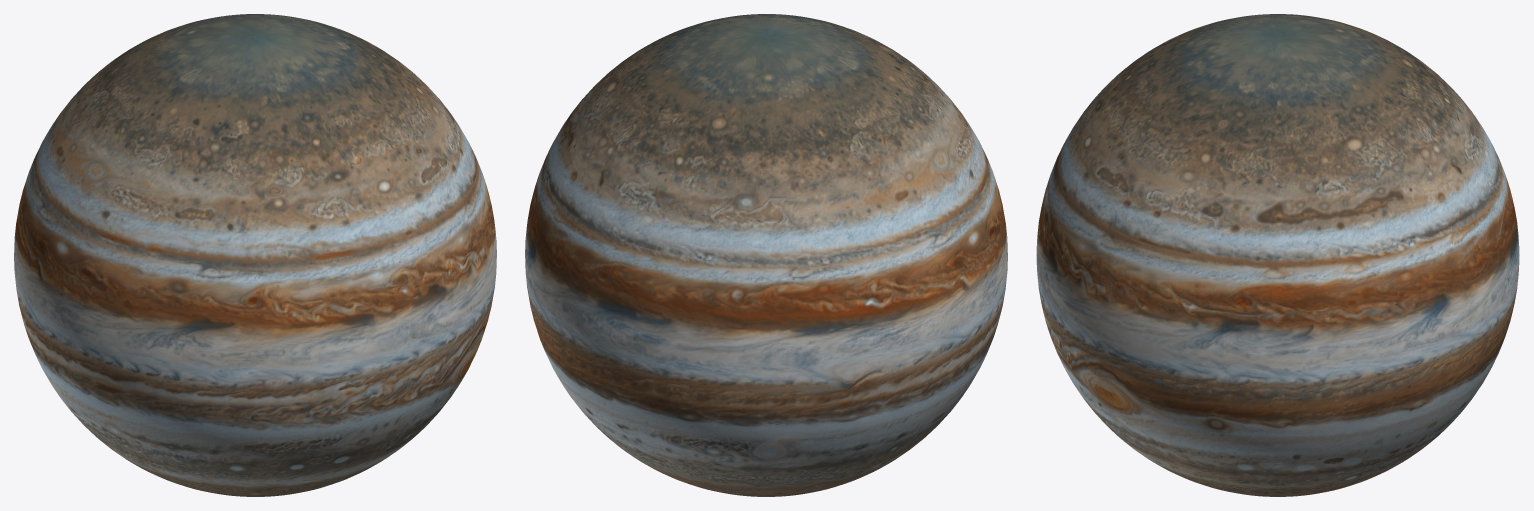
Rendered from jupiter.gltf.
The picture shows the model from 3 angles, left to right: view 1: azimuth 30°, elevation 25°; view 2: azimuth 150°, elevation 25°; view 3: azimuth 270°, elevation 25°; orthographic projection.
Parts seen in each view (by area): view 1: Sphere; view 2: Sphere; view 3: Sphere.
Part boxes in pixels (box(x1,y1,x2,y2)): Sphere: box(14, 14, 496, 496); Sphere: box(525, 14, 1007, 496); Sphere: box(1036, 14, 1519, 496).
Bounding box in the file's own units: 260 × 260 × 260.
1 material, 1 textured.
